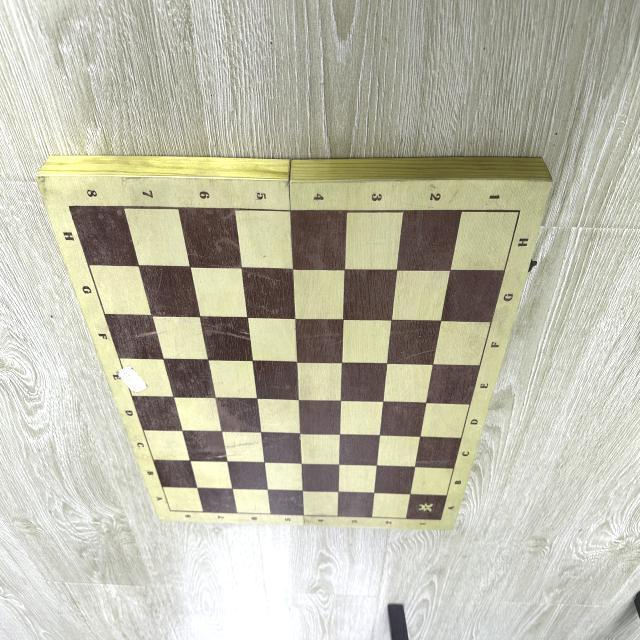chess-table-corners: (64, 202, 74, 212), (516, 206, 524, 218), (437, 516, 444, 524), (167, 507, 174, 515)
